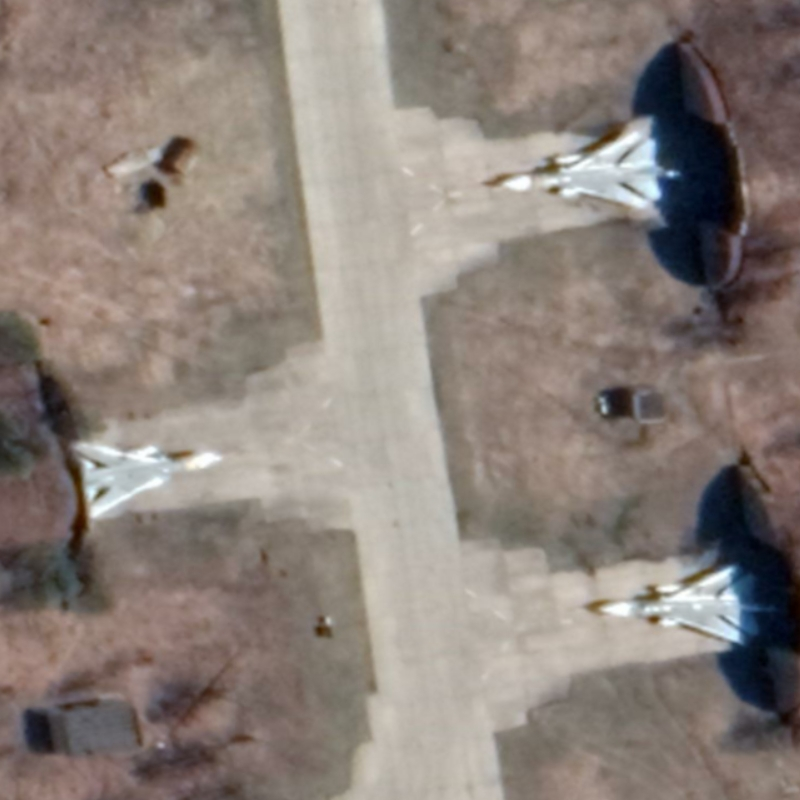A20: (596, 560, 764, 649), (499, 129, 667, 212), (68, 438, 226, 523)
